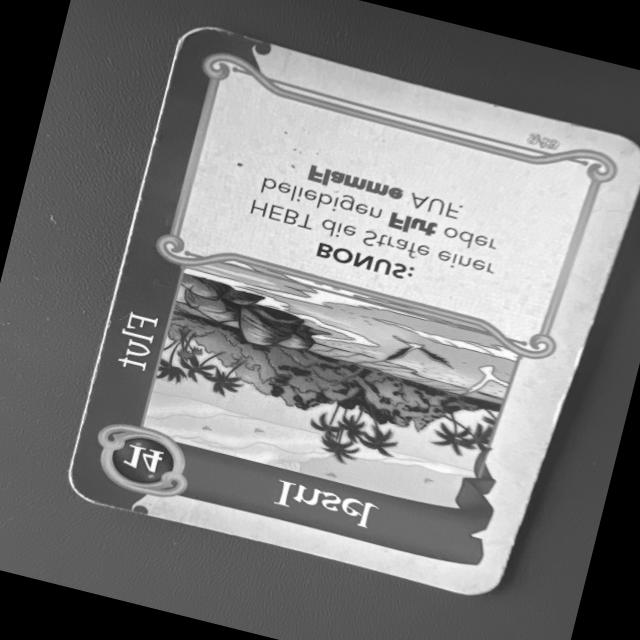Island: (62, 25, 640, 598)
